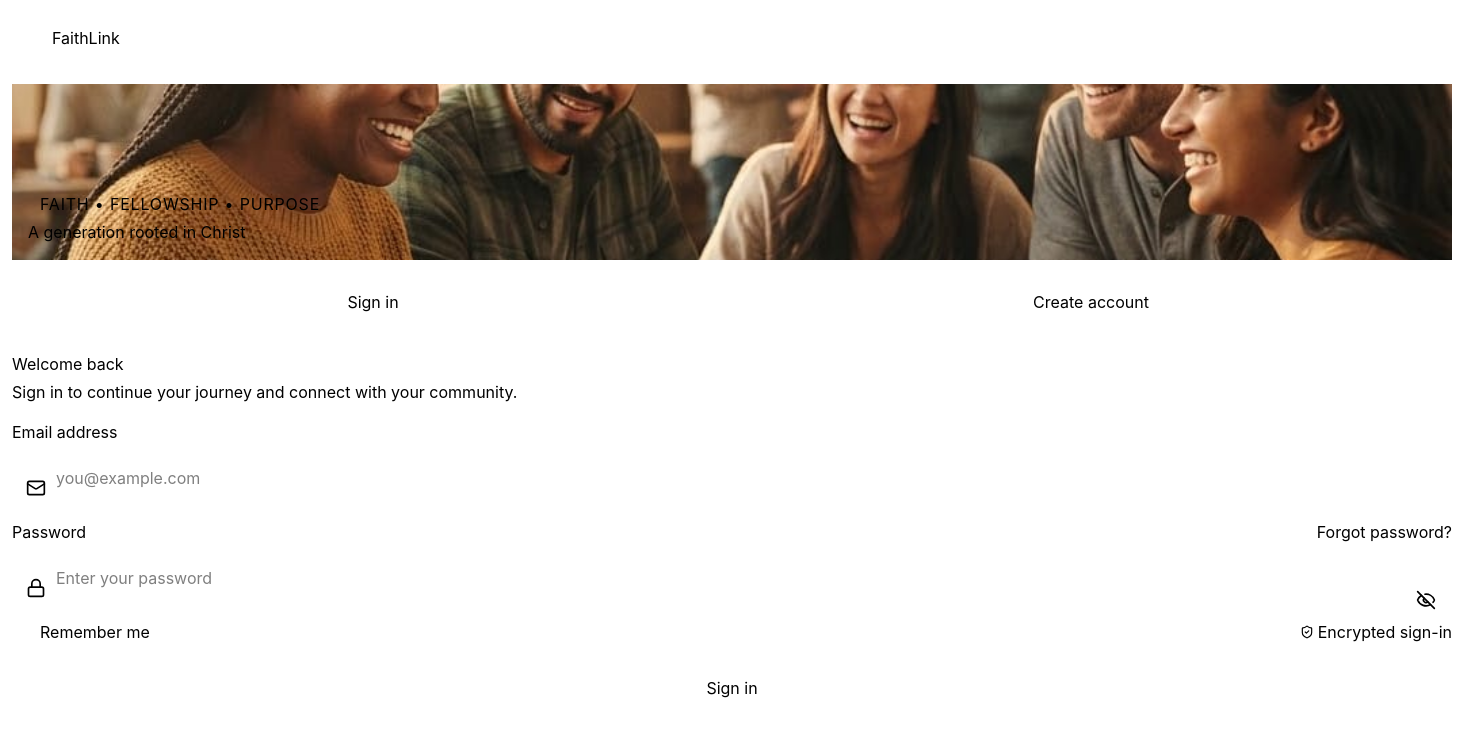
Test: Sign in page › shows required errors on submit
Click the button "Sign in" at (732, 688), box [12,664,1452,712]
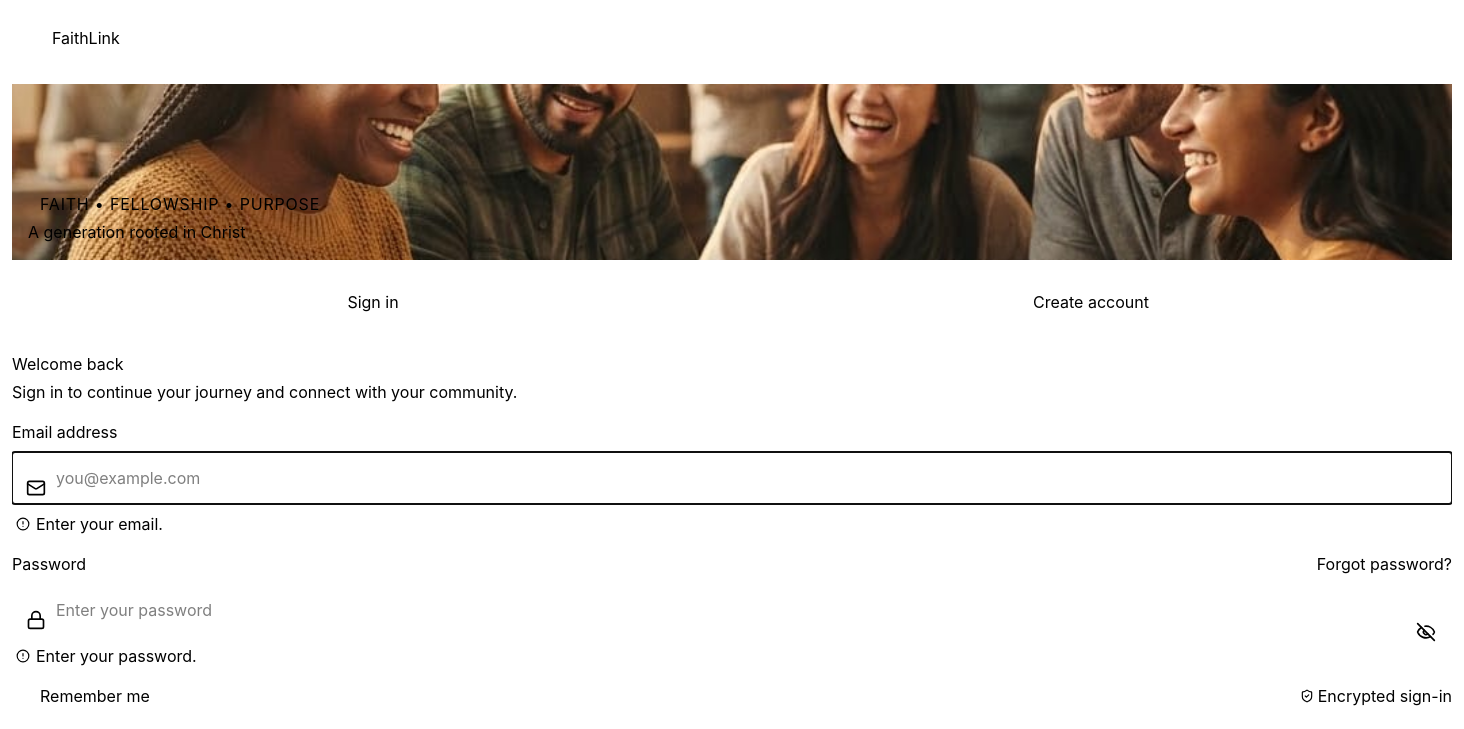
Now the text "Enter your email." is shown, box [16,514,163,534]
Now the text "Enter your password." is shown, box [16,646,197,666]
